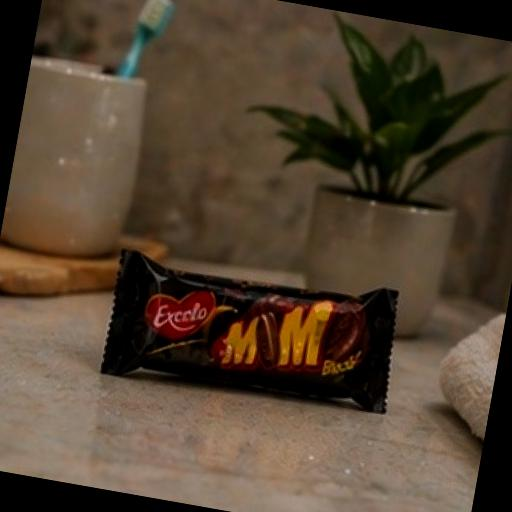MOMO: (82, 234, 444, 436)
